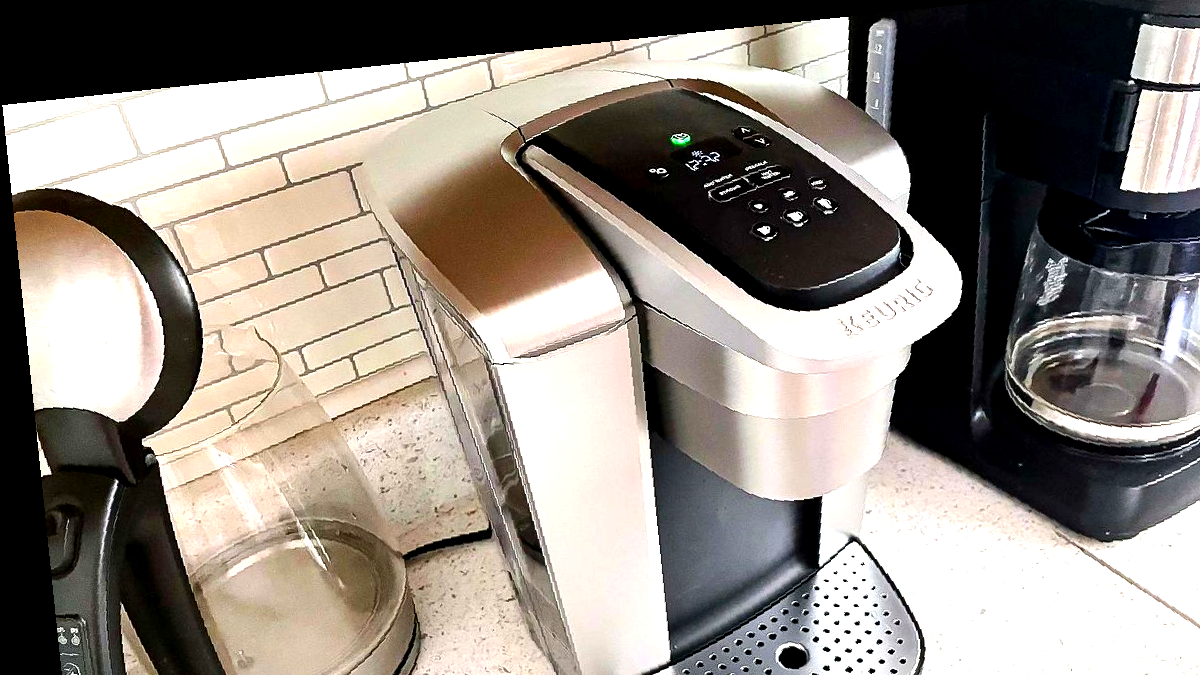10oz: (776, 200, 814, 237)
12oz: (806, 189, 844, 226)
4oz: (743, 194, 774, 220)
6oz: (775, 180, 805, 207)
8oz: (746, 214, 784, 251)
add_water: (698, 165, 737, 193)
coffee_handle: (856, 284, 975, 378)
descale: (736, 150, 775, 178)
hot: (747, 160, 790, 193)
iced: (802, 169, 831, 197)
power: (667, 127, 695, 148)
strong: (704, 177, 747, 209)
water_handle: (491, 306, 640, 381)
